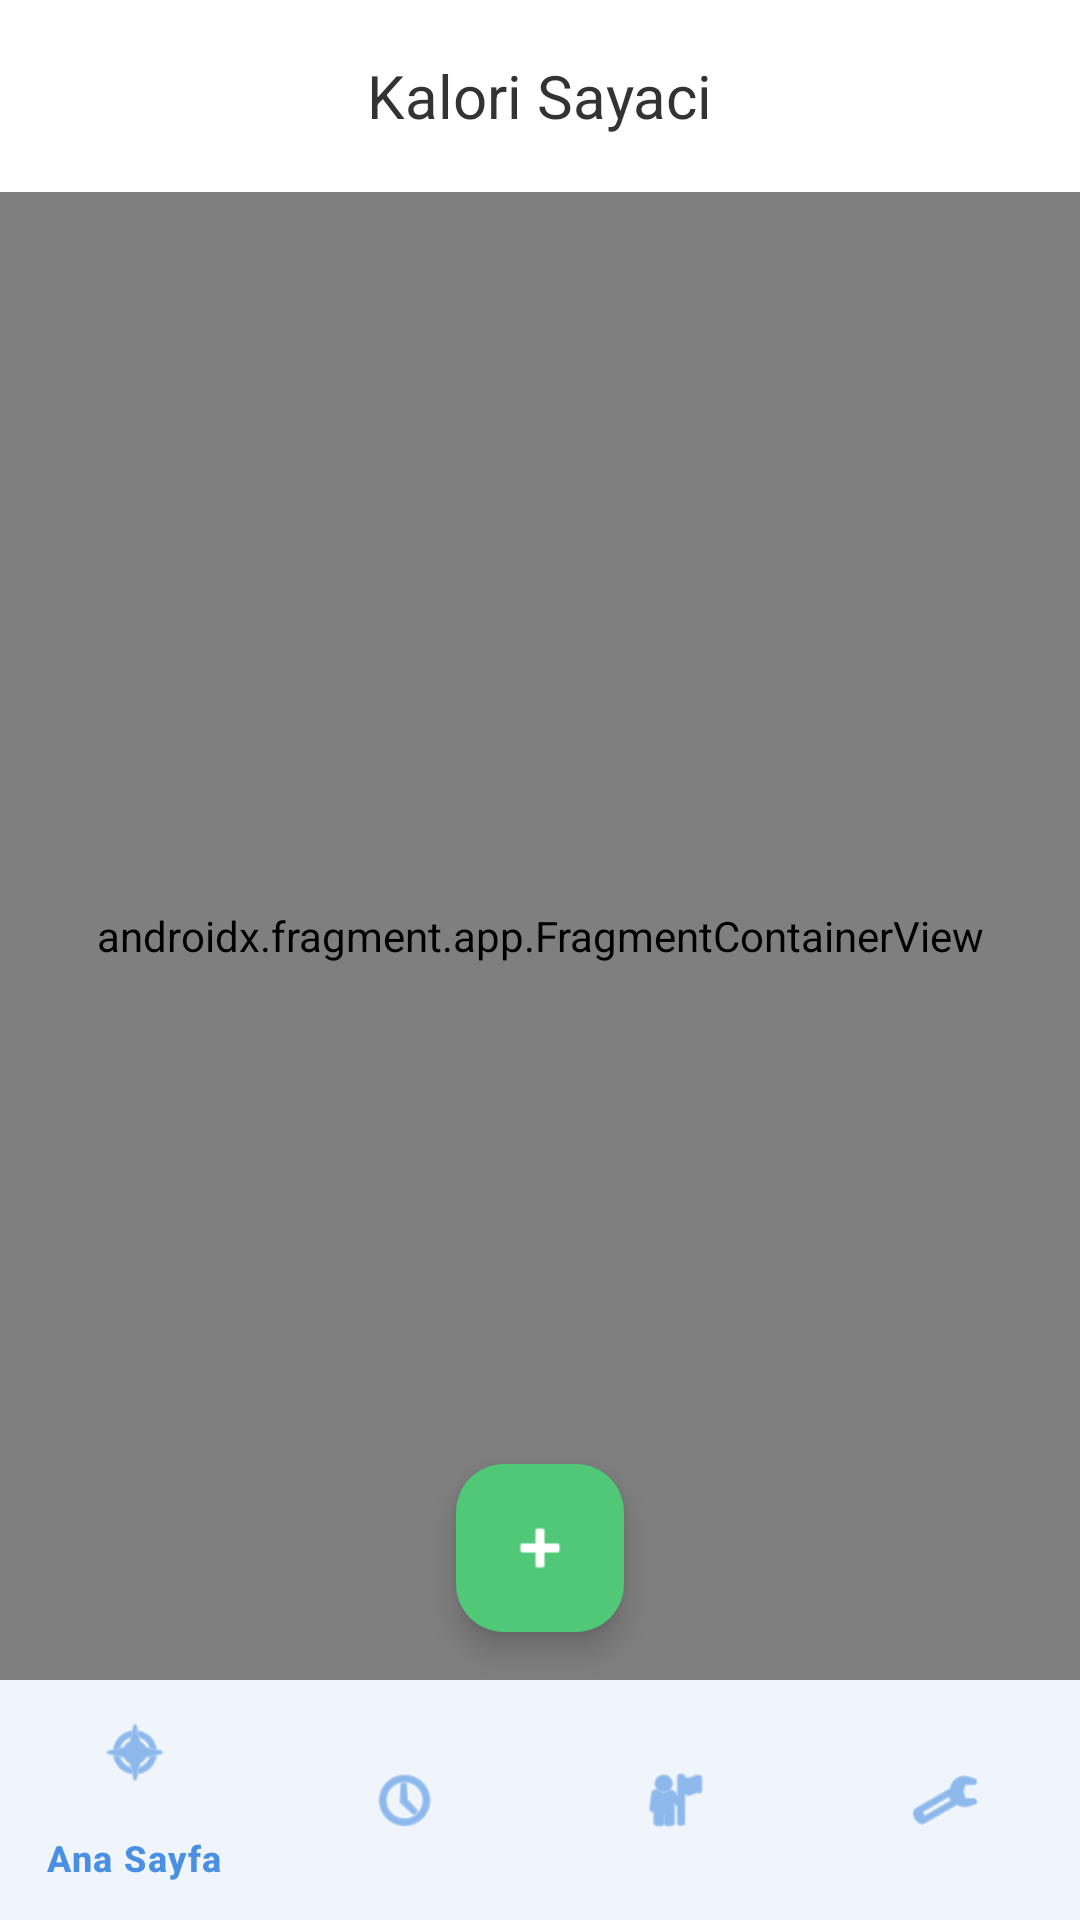

Point at icon controls on the screen. Image size 1080px×1920px, points as point (x, y).
Add food: point (540, 1548)
